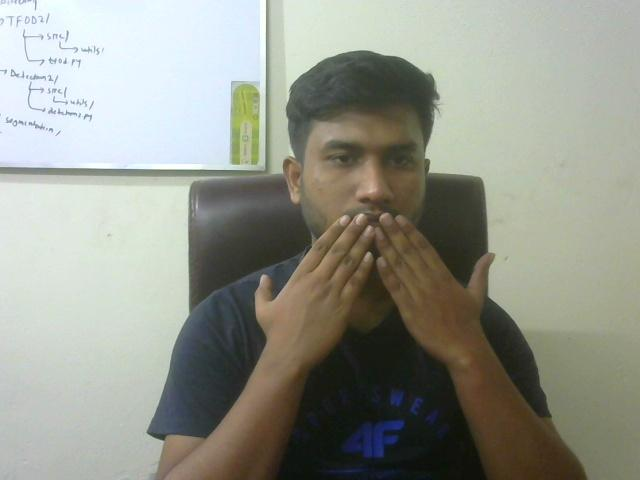Thanks: (232, 202, 516, 374)
